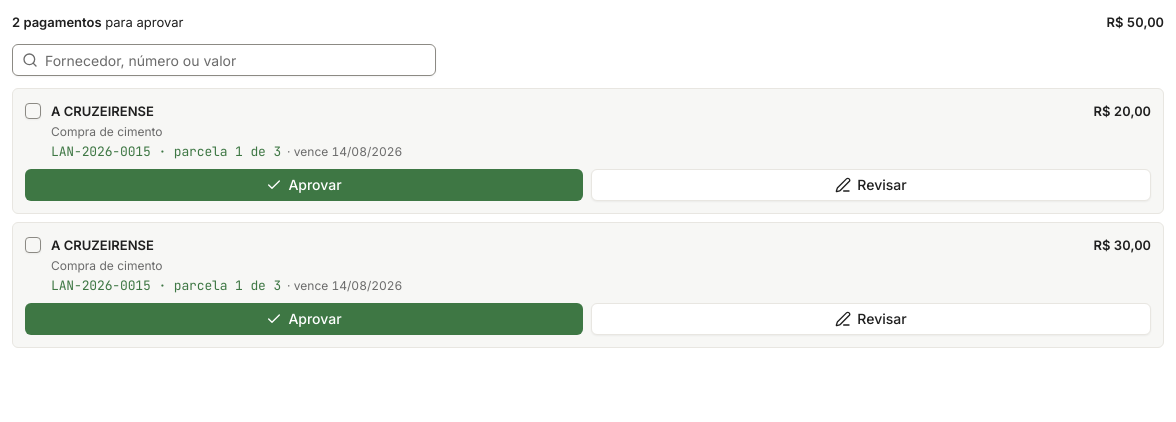
Test: FilaAprovacao no celular › marcar um card mostra a barra com o total marcado
This screenshot has width=1176, height=422.
What coordinates should you click on to do the following:
click the checkbox named "Selecionar LAN-2026-0015 · parcela 1 de 3" in the row of "R$ 20,00"
I would click on:
 (33, 111)
Its box is [25,103,41,119].
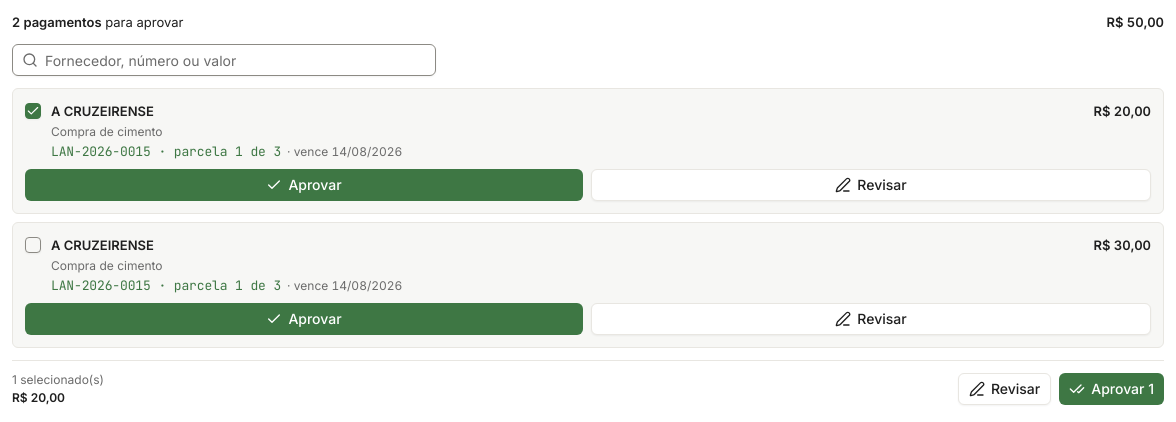
expect the button "Aprovar 1" is shown: met, box [1059,373,1164,405]
